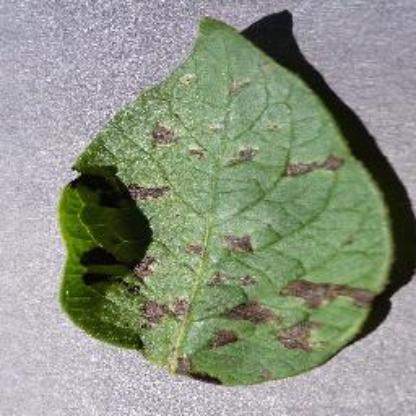Early-Blight: (55, 19, 397, 388)
